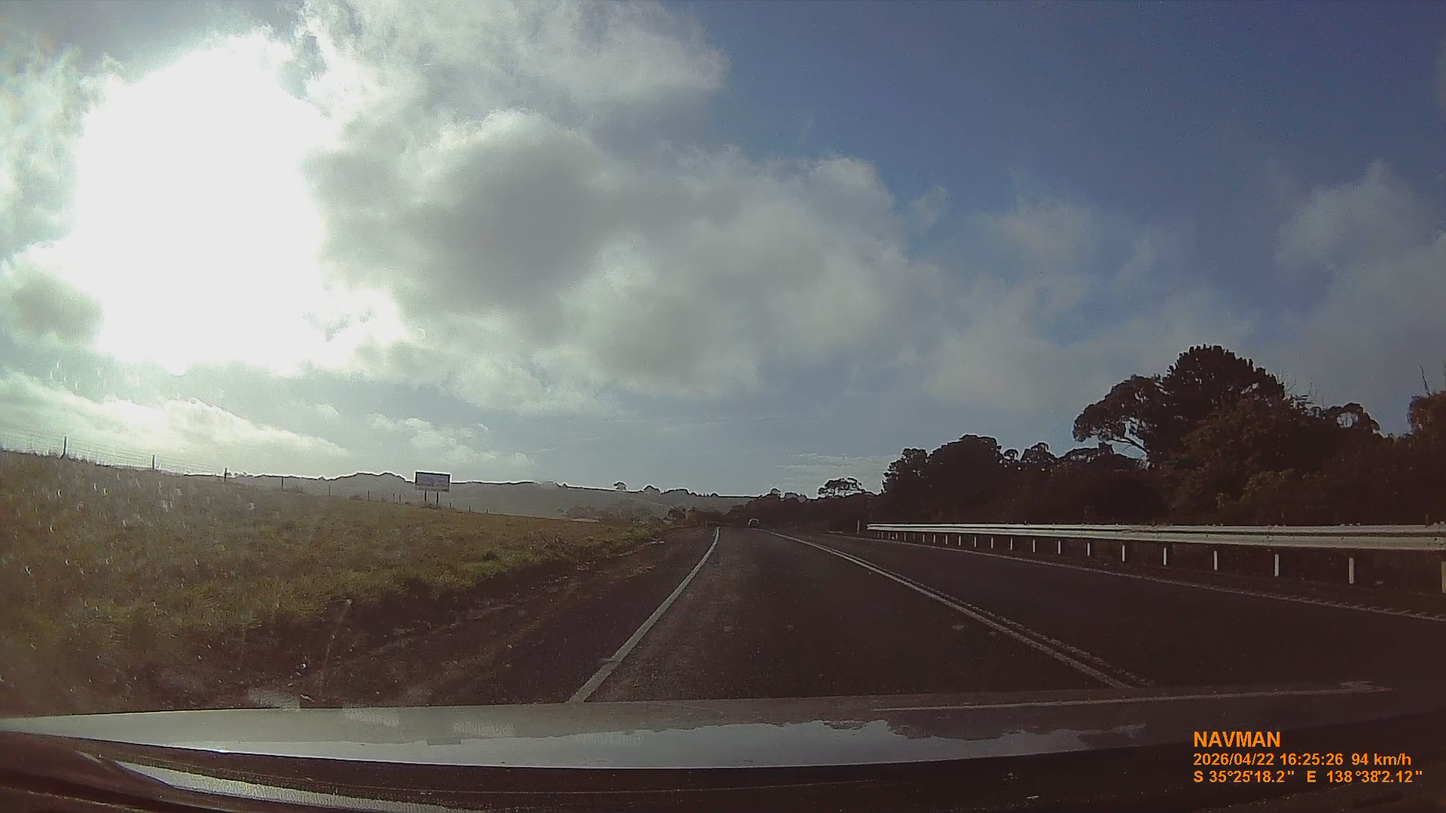road barriers: (868, 520, 1446, 590)
